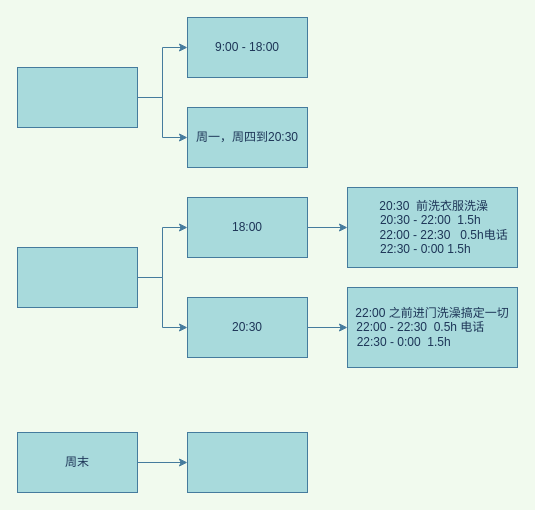
Image size: 535x510. Some labels were removed from this diagram. The shapes that lost their labels are listed below. From the top down, each one's centre as x and y in pixels, then its label:
the point at 77,97: 工作时间
the point at 77,277: 自由时间
the point at 247,462: 7:00 - 20:30 图书馆
